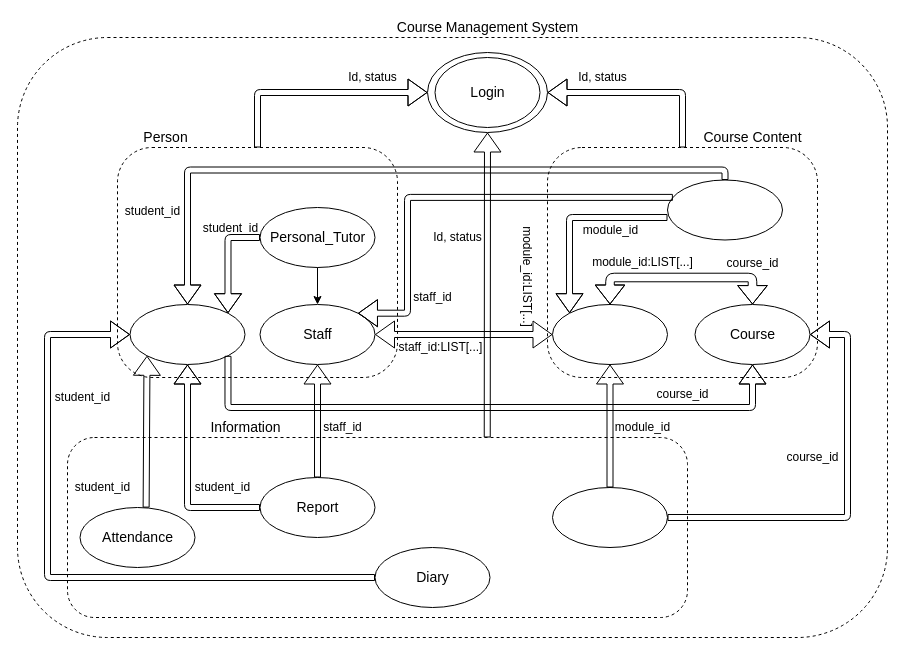
Some shapes in this 905 by 655 pixel diagram are drawn without their labels. Each missing label, with the centre of its shape:
"Assignment" belongs at pixel 724 209.
"Module" belongs at pixel 610 334.
"Student" belongs at pixel 187 334.
"Timetable" belongs at pixel 610 517.
